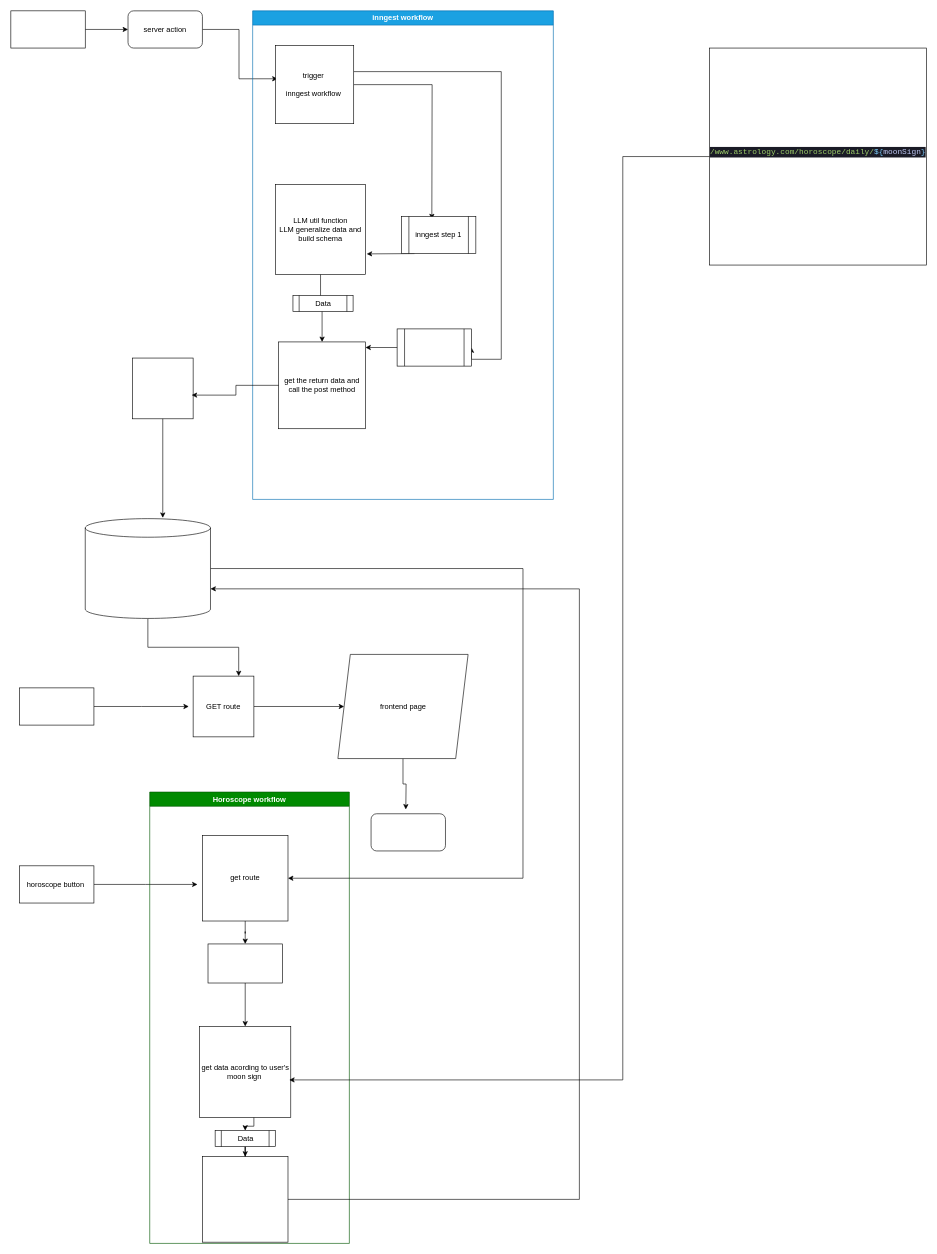
Some shapes in this 937 by 1254 pixel diagram are drawn without their labels. The centre of each missing label's shape, as x and y in pixels:
"inngest step 2" goes at pixel 434 347.
"mongo db database" goes at pixel 147 568.
"PDF creation" goes at pixel 407 832.
"POST route" goes at pixel 162 388.
"PUT route" goes at pixel 245 1199.
"return user's data" goes at pixel 244 963.
"user log in" goes at pixel 56 706.
"user register" goes at pixel 47 29.
